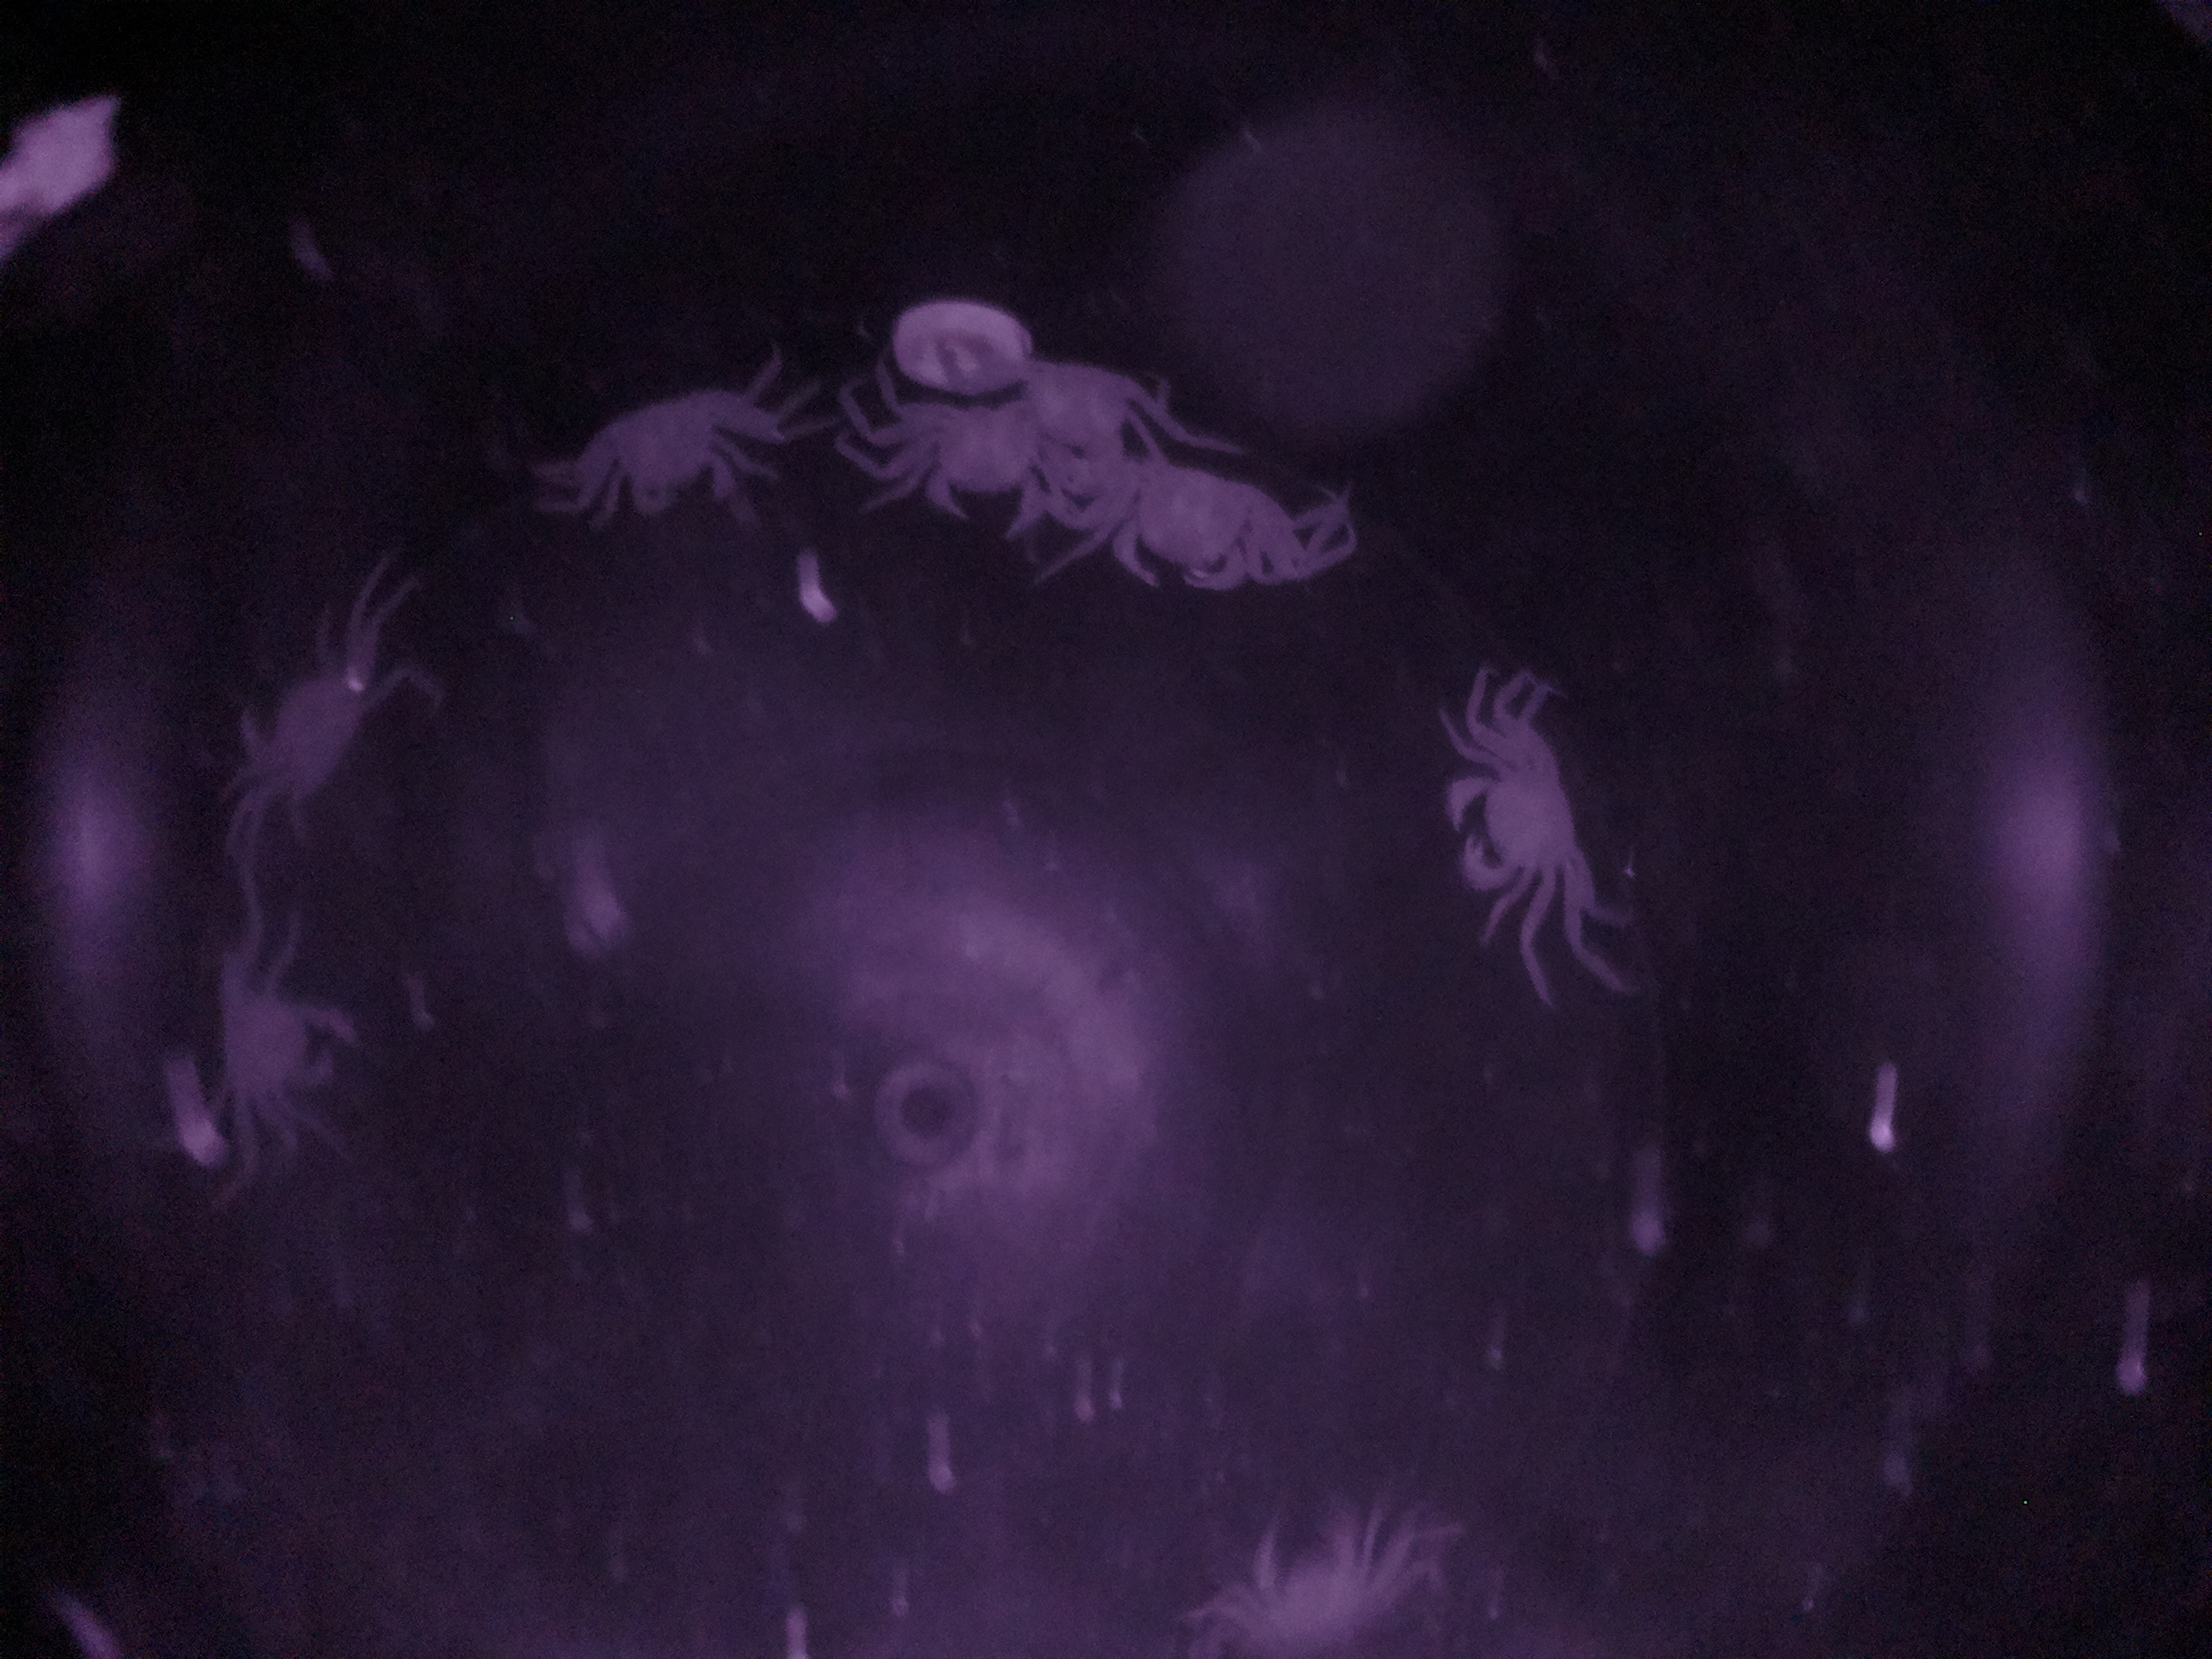Crab: (1428, 718, 1623, 943)
